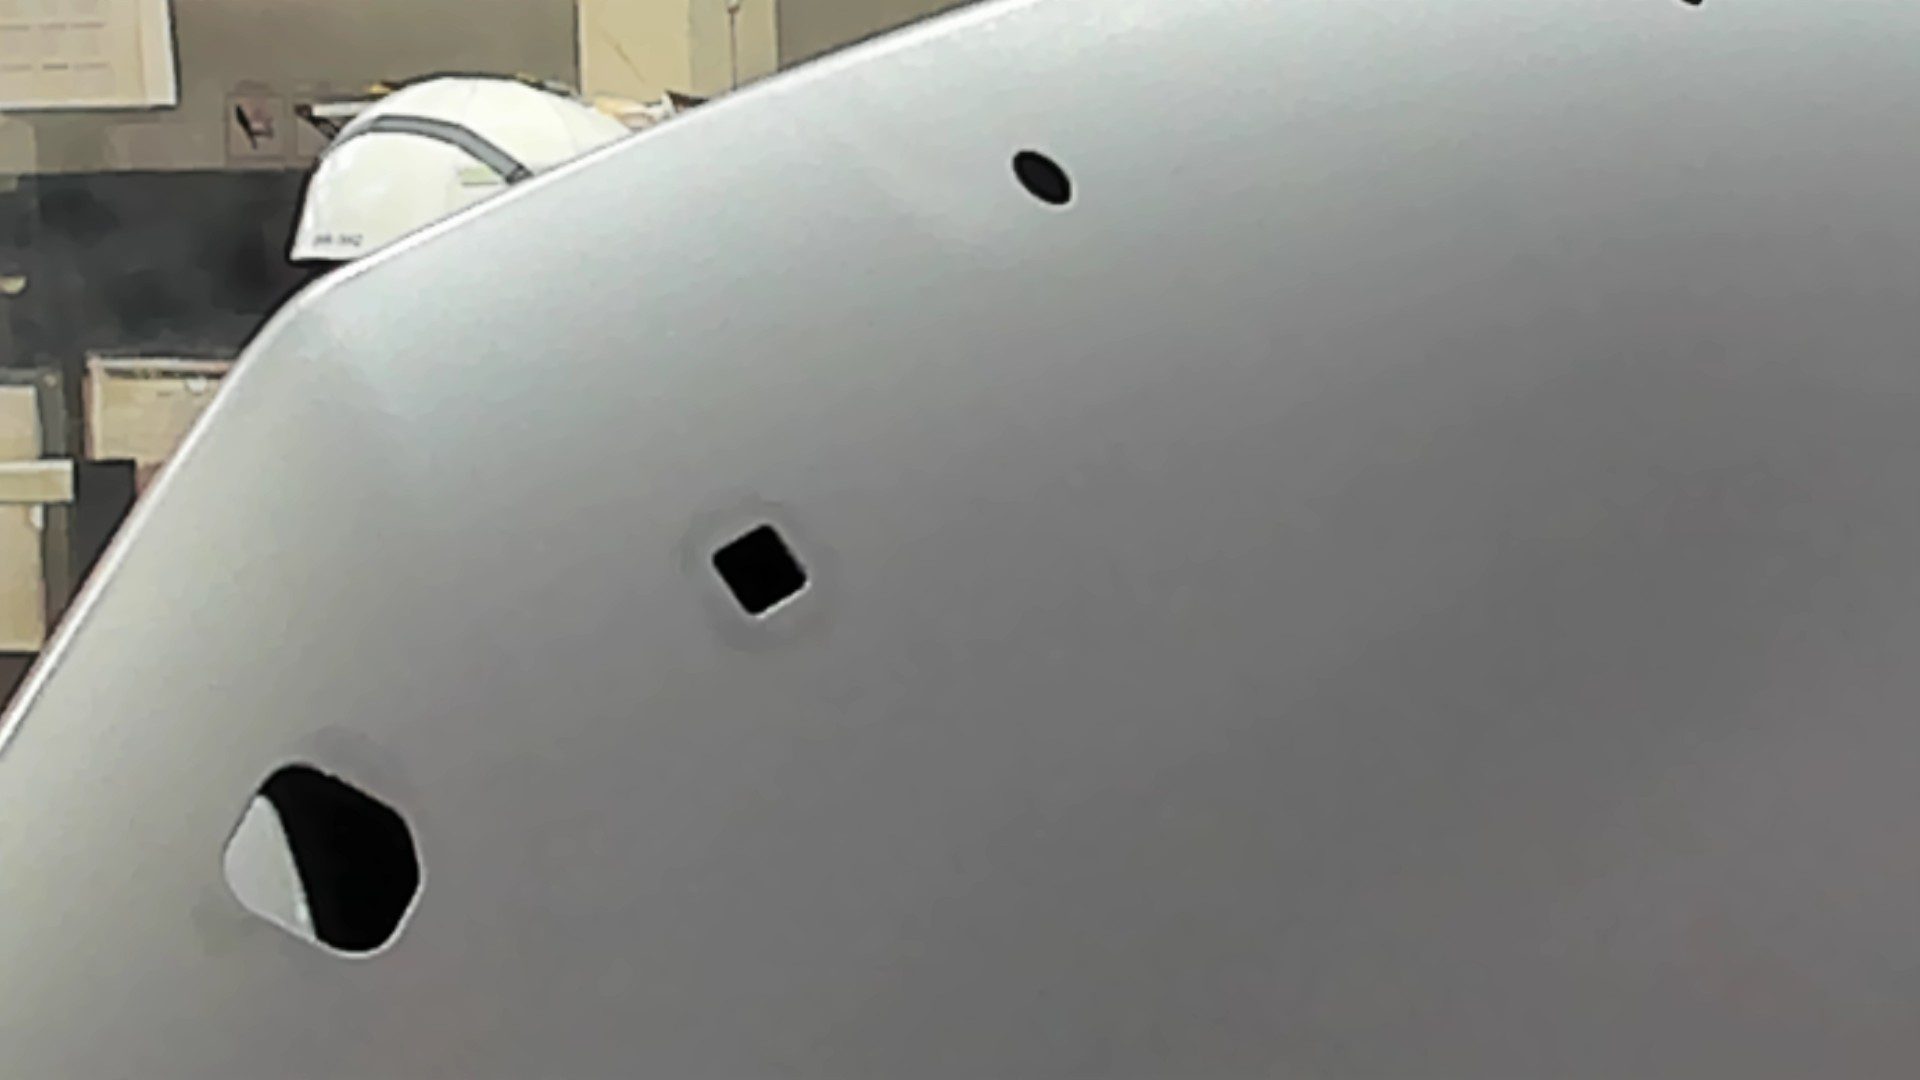Agujero: (711, 521, 814, 620), (1009, 146, 1073, 204)
Agujerote: (218, 756, 429, 961)
